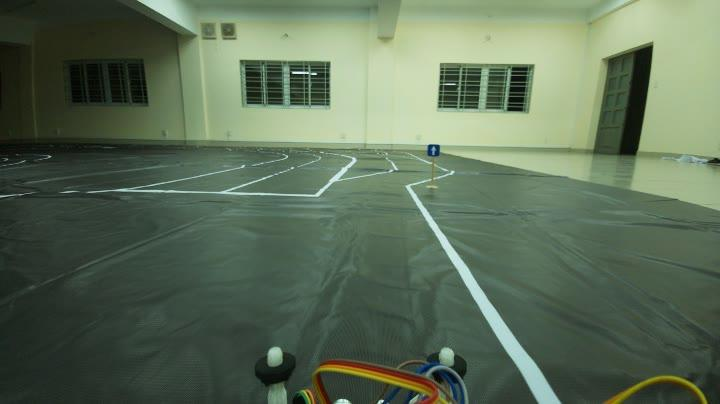onewayroad: (421, 140, 446, 164)
